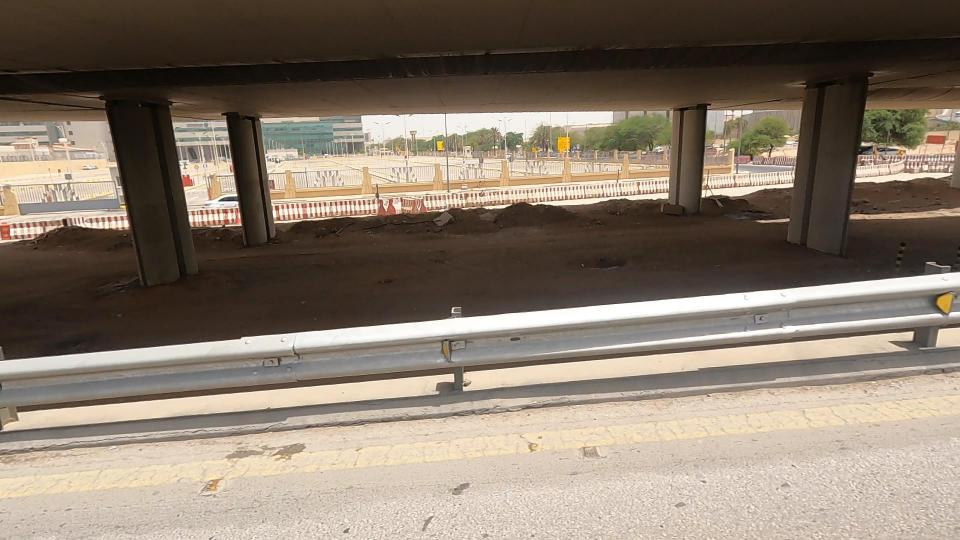CONSTRUCTION_ROAD: (418, 145, 682, 253), (206, 164, 511, 255)
